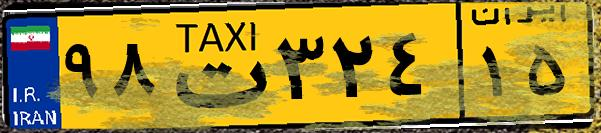1: (475, 38, 525, 113)
2: (330, 28, 385, 110)
3: (270, 28, 330, 110)
4: (385, 28, 445, 110)
5: (525, 38, 570, 115)
8: (110, 28, 158, 98)
9: (57, 26, 110, 100)
ت: (158, 12, 270, 120)
